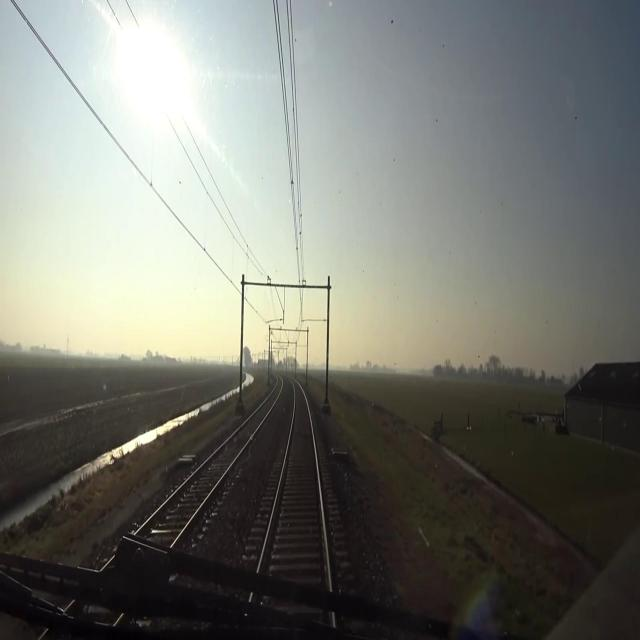rail-track: (138, 379, 280, 546), (260, 383, 328, 594)
